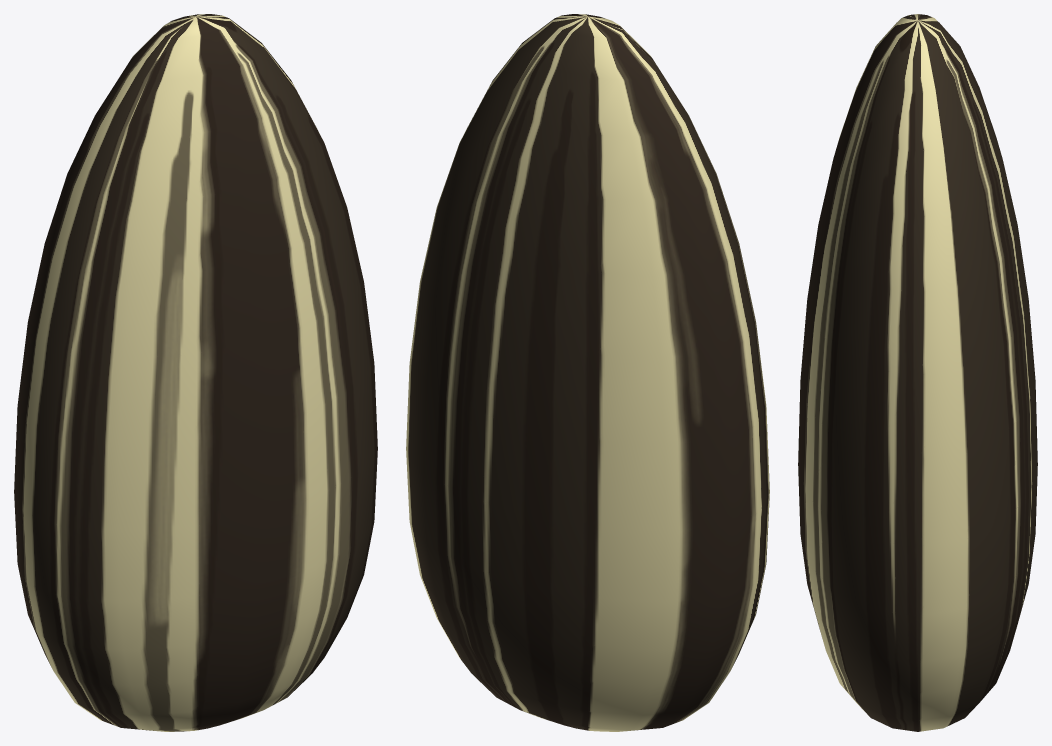
File: seed_sunflower.fbx
3 views of the same model, side by side, from view 1: azimuth 30°, elevation 25°; view 2: azimuth 150°, elevation 25°; view 3: azimuth 270°, elevation 25° (orthographic). The views are drawn at different scales.
Parts seen in each view (by area): view 1: seed_sunflower; view 2: seed_sunflower; view 3: seed_sunflower.
Boxes of the visible parts, <box> form: seed_sunflower: <box>14,14,377,731</box>; seed_sunflower: <box>406,14,769,731</box>; seed_sunflower: <box>798,14,1037,731</box>.
Size of the model in its own units: 26.24 by 51.91 by 16.22.
1 material, 1 textured.
